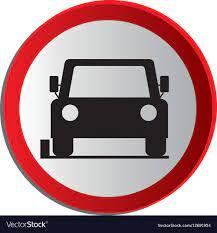Parking Lot Cars: (11, 5, 202, 207)
